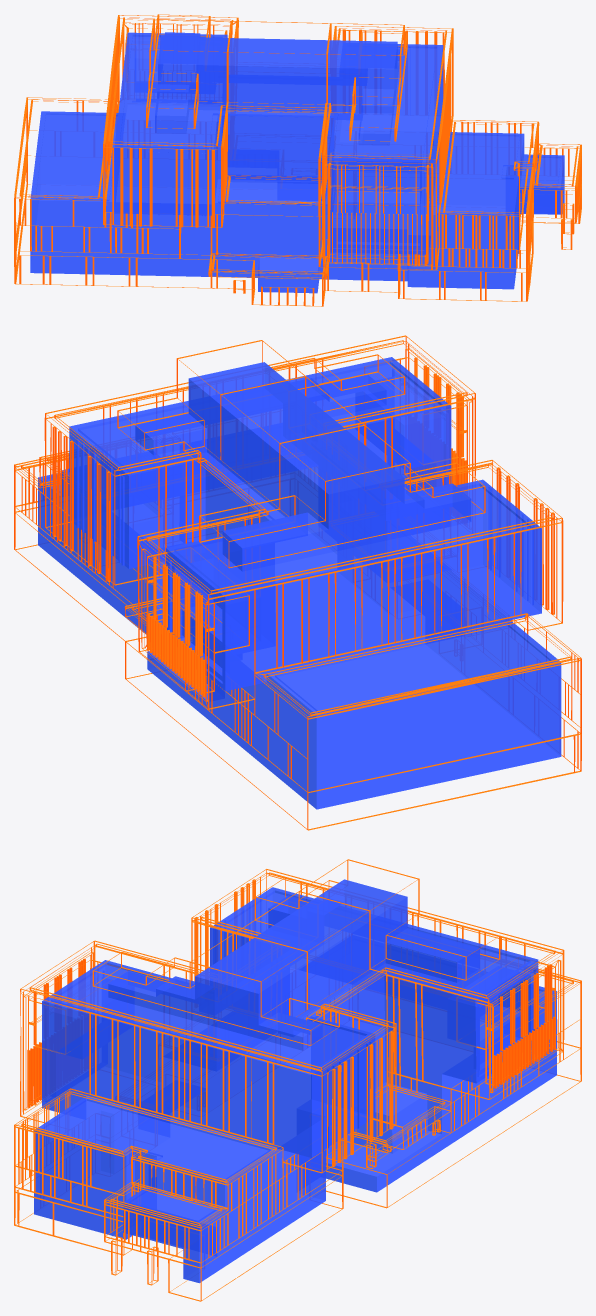
The picture shows the model from 3 angles, top to bottom: view 1: azimuth 30°, elevation 25°; view 2: azimuth 150°, elevation 25°; view 3: azimuth 270°, elevation 25°; orthographic projection. The views are drawn at different scales.
Visible parts, largest first — view 1: MN, MN_Wireframe; view 2: MN, MN_Wireframe; view 3: MN, MN_Wireframe.
Boxes of the visible parts, x1,y1,x2,y2 form: MN: (30,32,564,293); MN_Wireframe: (14,14,581,306); MN: (38,357,561,809); MN_Wireframe: (14,335,581,830); MN: (34,879,556,1283); MN_Wireframe: (14,859,581,1301).
Bounding box in the file's own units: 108 × 41.84 × 91.82.
